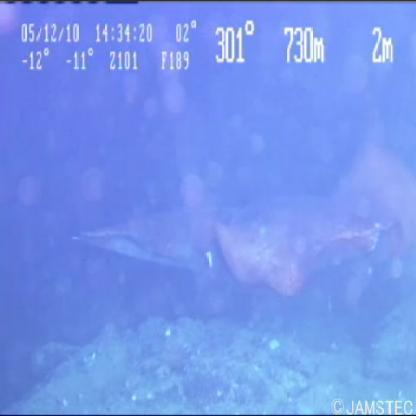Bio: (63, 139, 416, 307)
